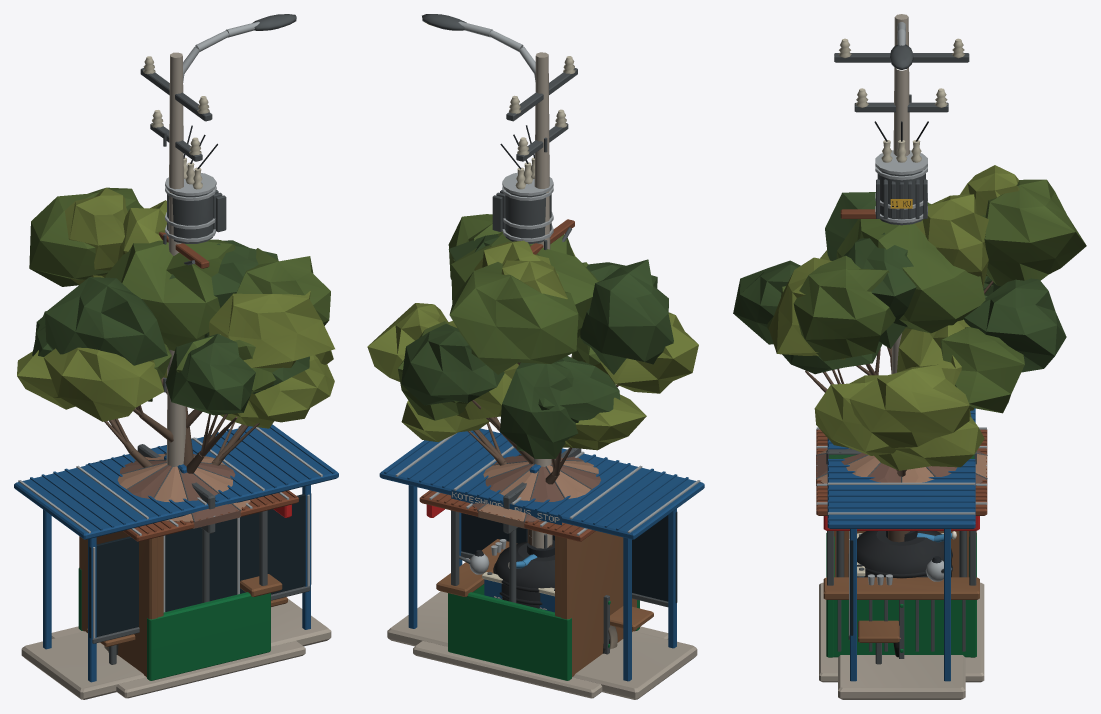
File: props.glb
3 views of the same model, side by side, from view 1: azimuth 30°, elevation 25°; view 2: azimuth 150°, elevation 25°; view 3: azimuth 270°, elevation 25° (orthographic). The views are drawn at different scales.
Parts seen in each view (by area): view 1: Tree, BusShelter, TeaStall, ElectricPole, PoliceBooth, ElectricPoleTransformer, StreetLight, Signboard; view 2: Tree, BusShelter, TeaStall, PoliceBooth, ElectricPole, ElectricPoleTransformer, WaterTank, StreetLight, Signboard; view 3: Tree, BusShelter, TeaStall, ElectricPole, ElectricPoleTransformer, WaterTank, PoliceBooth, Signboard, StreetLight.
Part boxes in pixels (x1=…): Tree: x1=17, y1=187, x2=334, y2=473; BusShelter: x1=14, y1=424, x2=338, y2=699; TeaStall: x1=51, y1=490, x2=305, y2=698; ElectricPole: x1=140, y1=52, x2=212, y2=466; PoliceBooth: x1=117, y1=453, x2=252, y2=528; ElectricPoleTransformer: x1=165, y1=125, x2=226, y2=243; StreetLight: x1=183, y1=14, x2=296, y2=82; Signboard: x1=137, y1=444, x2=215, y2=602; Tree: x1=367, y1=214, x2=698, y2=545; BusShelter: x1=379, y1=428, x2=704, y2=699; TeaStall: x1=413, y1=490, x2=668, y2=698; PoliceBooth: x1=470, y1=454, x2=600, y2=612; ElectricPole: x1=506, y1=52, x2=577, y2=548; ElectricPoleTransformer: x1=492, y1=125, x2=553, y2=243; WaterTank: x1=493, y1=540, x2=554, y2=608; StreetLight: x1=422, y1=14, x2=535, y2=81; Signboard: x1=503, y1=448, x2=581, y2=602; Tree: x1=733, y1=165, x2=1086, y2=542; BusShelter: x1=827, y1=408, x2=975, y2=699; TeaStall: x1=816, y1=427, x2=987, y2=682; ElectricPole: x1=834, y1=14, x2=969, y2=373; ElectricPoleTransformer: x1=874, y1=121, x2=928, y2=225; WaterTank: x1=857, y1=531, x2=952, y2=578; PoliceBooth: x1=816, y1=448, x2=987, y2=577; Signboard: x1=826, y1=449, x2=976, y2=577; StreetLight: x1=890, y1=22, x2=913, y2=70.
Size of the model in its own units: 4.2 by 8.56 by 4.32.
50 materials, 7 textured.
